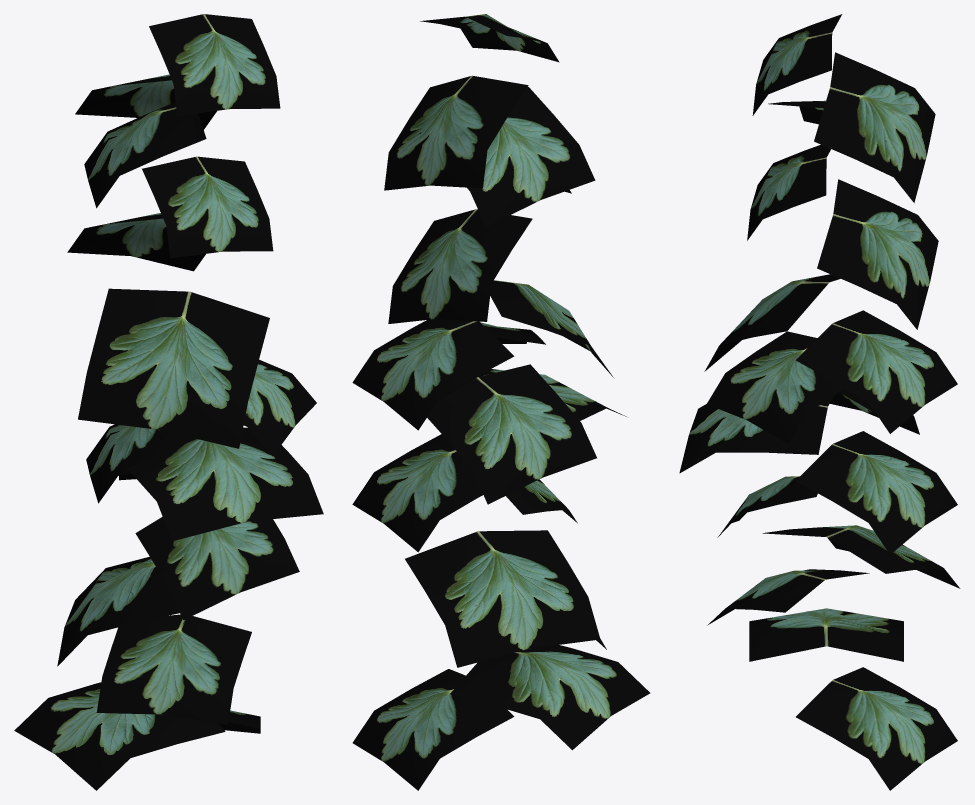
Rendered from plant2_leaf.obj.
3 renders of one model, left to right at view 1: azimuth 30°, elevation 25°; view 2: azimuth 150°, elevation 25°; view 3: azimuth 270°, elevation 25°, orthographic. The views are drawn at different scales.
Visible parts, largest first — view 1: Mesh; view 2: Mesh; view 3: Mesh.
Boxes of the visible parts, <box> form: Mesh: <box>14,14,323,790</box>; Mesh: <box>352,14,650,790</box>; Mesh: <box>679,14,960,790</box>.
Bounding box in the file's own units: 0.1256 × 0.3793 × 0.1347.
